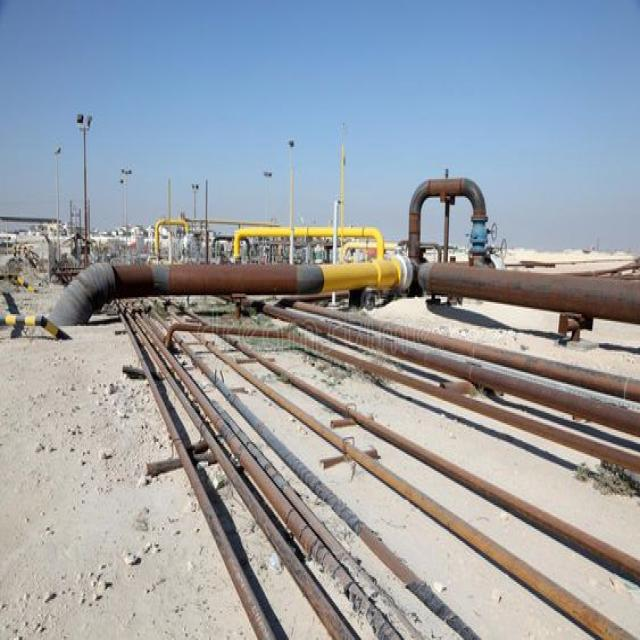gas: (149, 346, 356, 639), (121, 310, 280, 640), (274, 309, 640, 436), (51, 257, 640, 325), (295, 304, 640, 401)
